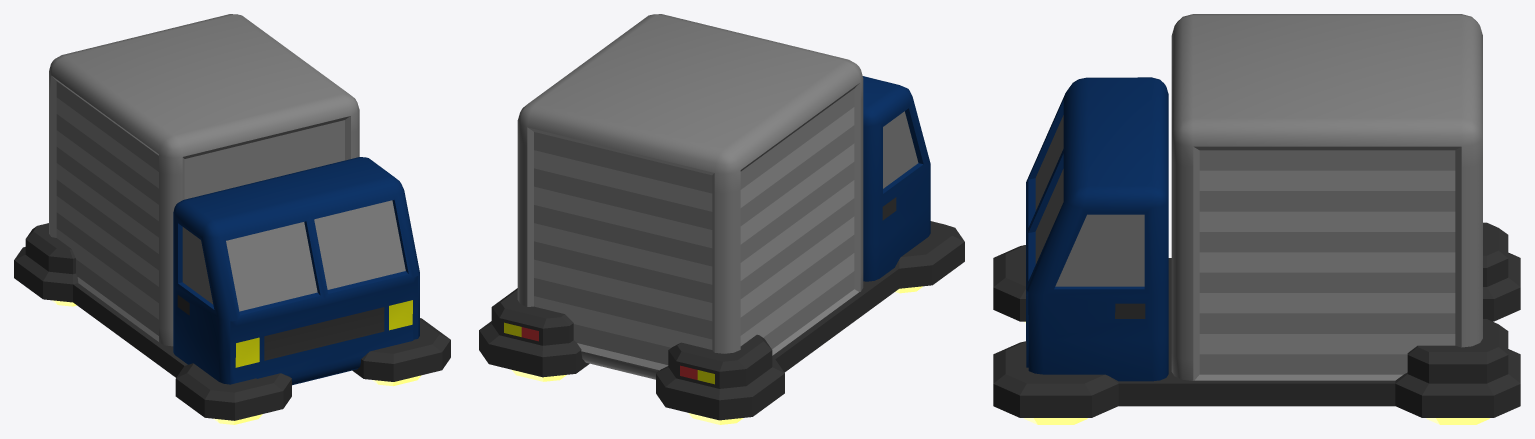
The model's file is MOBIL_NPC_TRUCK_3.fbx.
3 views of the same model, side by side, from view 1: azimuth 30°, elevation 25°; view 2: azimuth 150°, elevation 25°; view 3: azimuth 270°, elevation 25° (orthographic). The views are drawn at different scales.
Visible parts, largest first — view 1: MOBIL_NPC_TRUCK_3; view 2: MOBIL_NPC_TRUCK_3; view 3: MOBIL_NPC_TRUCK_3.
Part boxes in pixels (x1,y1,x2,y2): MOBIL_NPC_TRUCK_3: [14, 14, 450, 424]; MOBIL_NPC_TRUCK_3: [479, 14, 964, 424]; MOBIL_NPC_TRUCK_3: [993, 14, 1520, 424].
Bounding box in the file's own units: 248 × 230 × 371.
